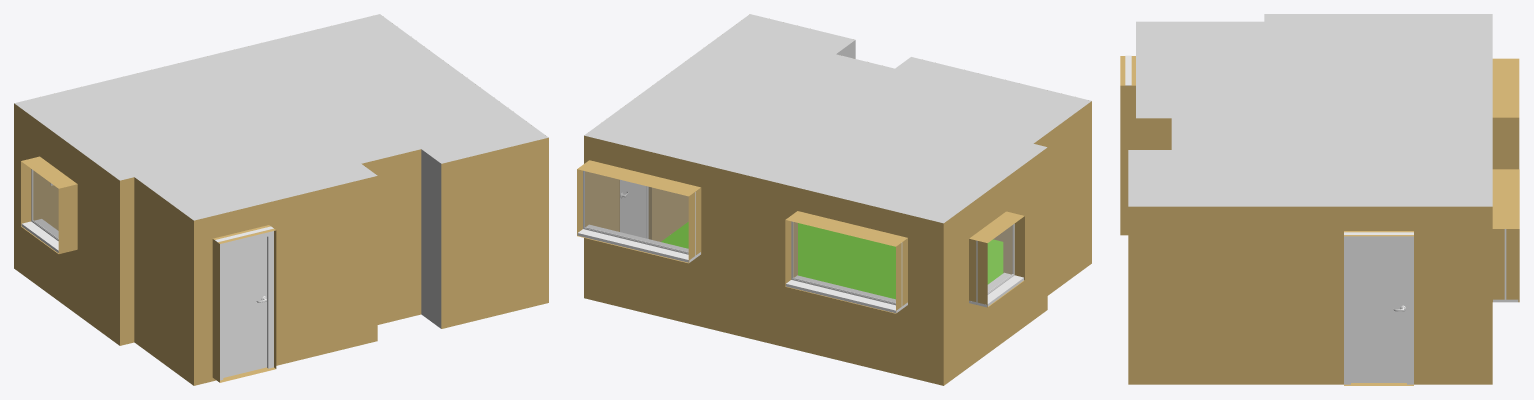
File: Kitchen.glb
3 views of the same model, side by side, from view 1: azimuth 30°, elevation 25°; view 2: azimuth 150°, elevation 25°; view 3: azimuth 270°, elevation 25° (orthographic). The views are drawn at different scales.
Visible parts, largest first — view 1: Room_Kitchen, Kitchen_Door_South, Kitchen_Door_South_Frame, Kitchen_Window_West; view 2: Room_Kitchen, Kitchen_Window_NW, Kitchen_Window_NE, Kitchen_Window_West, Kitchen_Door_West; view 3: Room_Kitchen, Kitchen_Door_West, Kitchen_Door_West_Frame.
Boxes of the visible parts, x1=… form: Room_Kitchen: x1=14, y1=14, x2=548, y2=385; Kitchen_Door_South: x1=223, y1=237, x2=266, y2=377; Kitchen_Door_South_Frame: x1=215, y1=226, x2=273, y2=380; Kitchen_Window_West: x1=21, y1=169, x2=58, y2=252; Room_Kitchen: x1=577, y1=14, x2=1091, y2=385; Kitchen_Window_NW: x1=786, y1=221, x2=907, y2=313; Kitchen_Window_NE: x1=577, y1=170, x2=700, y2=262; Kitchen_Window_West: x1=969, y1=224, x2=1023, y2=307; Kitchen_Door_West: x1=620, y1=180, x2=645, y2=238; Room_Kitchen: x1=1120, y1=14, x2=1519, y2=385; Kitchen_Door_West: x1=1351, y1=242, x2=1406, y2=382; Kitchen_Door_West_Frame: x1=1344, y1=232, x2=1413, y2=384.
Bounding box in the file's own units: 6.25 × 2.5 × 5.08.
